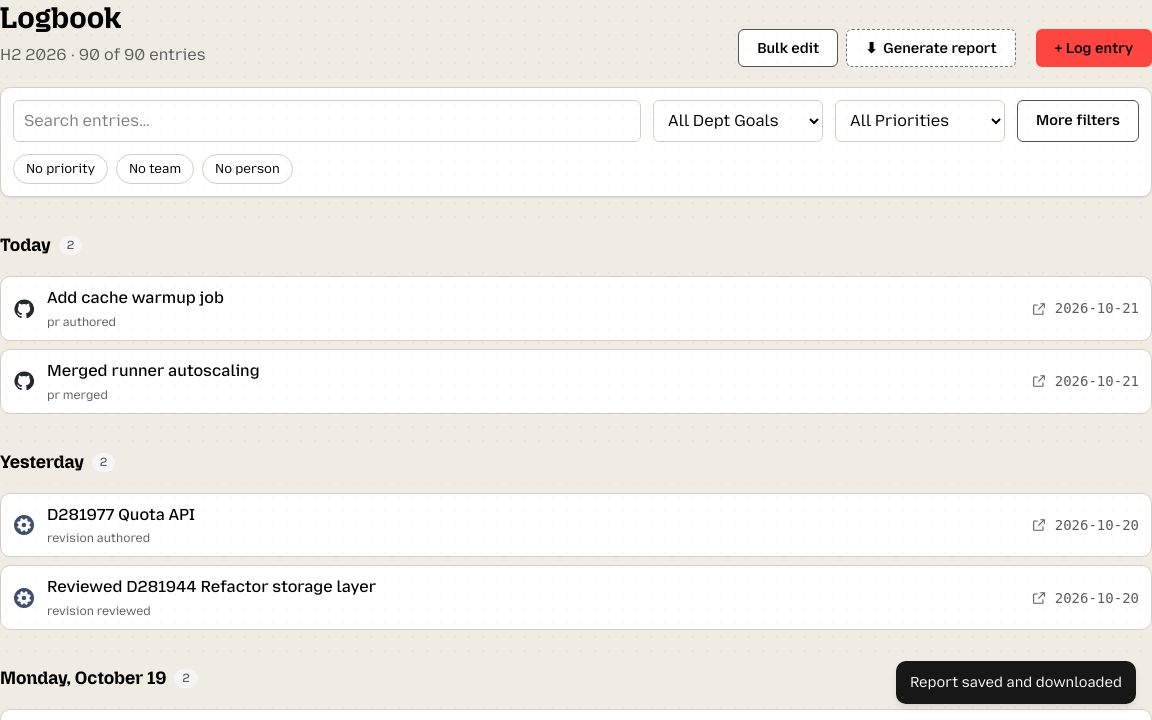
Test: Logbook report dialog › keeps a report without an AI summary and says so when AI fails
Check: the text "H2 2026 · 90 of 90 entries" is shown, box [0, 42, 206, 67]
Click the button "⬇ Generate report". click: click(931, 48)
box: [846, 29, 1016, 67]
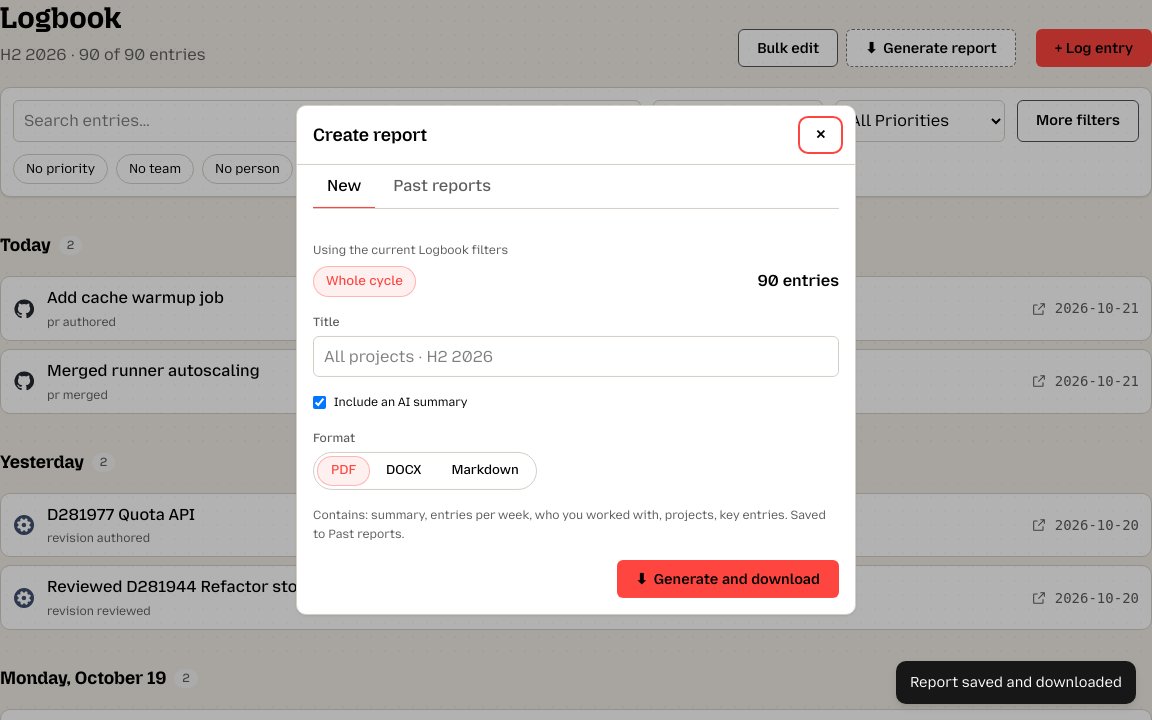
Click the button "⬇ Generate and download". click: click(728, 579)
box: [617, 560, 839, 598]
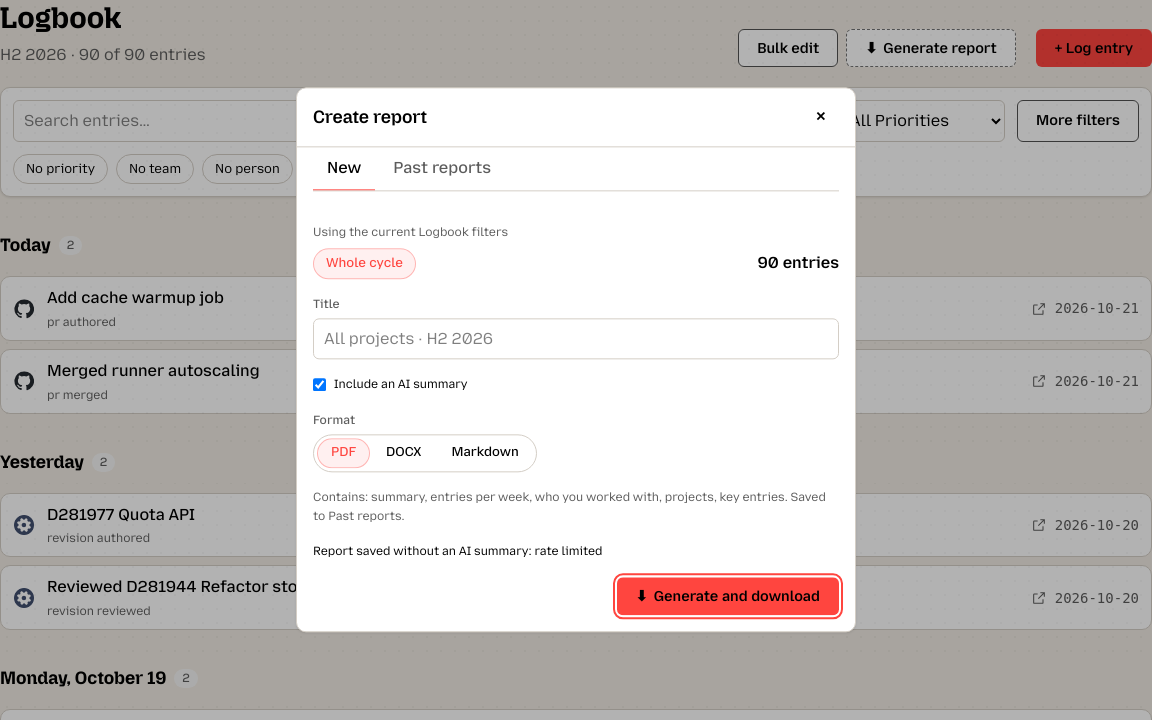
Check: the text "Report saved without an AI summary: rate limited" is shown, box [313, 544, 602, 558]
